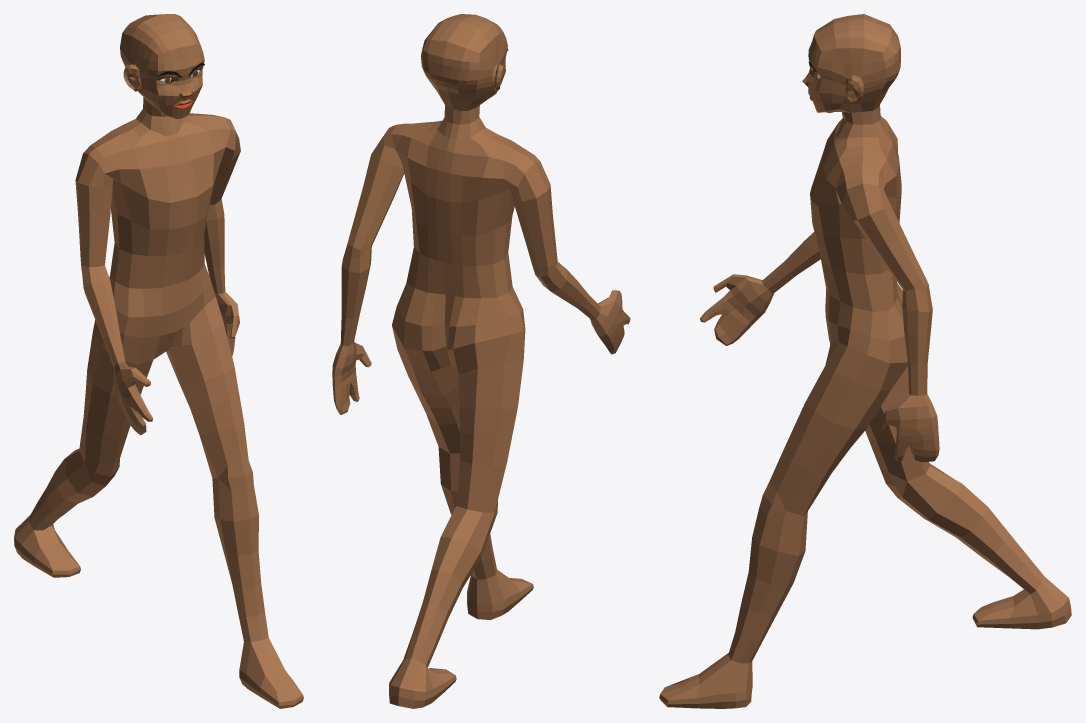
Rendered from Male_Walk.fbx.
The picture shows the model from 3 angles, left to right: view 1: azimuth 30°, elevation 25°; view 2: azimuth 150°, elevation 25°; view 3: azimuth 270°, elevation 25°; orthographic projection. The views are drawn at different scales.
Visible parts, largest first — view 1: Male_Walk; view 2: Male_Walk; view 3: Male_Walk.
Boxes of the visible parts, x1,y1,x2,y2 form: Male_Walk: (14, 14, 303, 708); Male_Walk: (332, 14, 630, 708); Male_Walk: (659, 14, 1071, 708).
Size of the model in its own units: 0.3234 by 1.02 by 0.5758.
